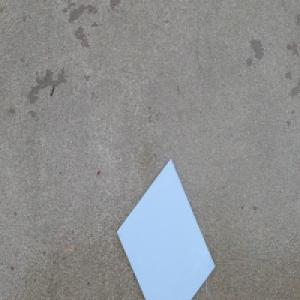PaintChip: (115, 157, 216, 300)
